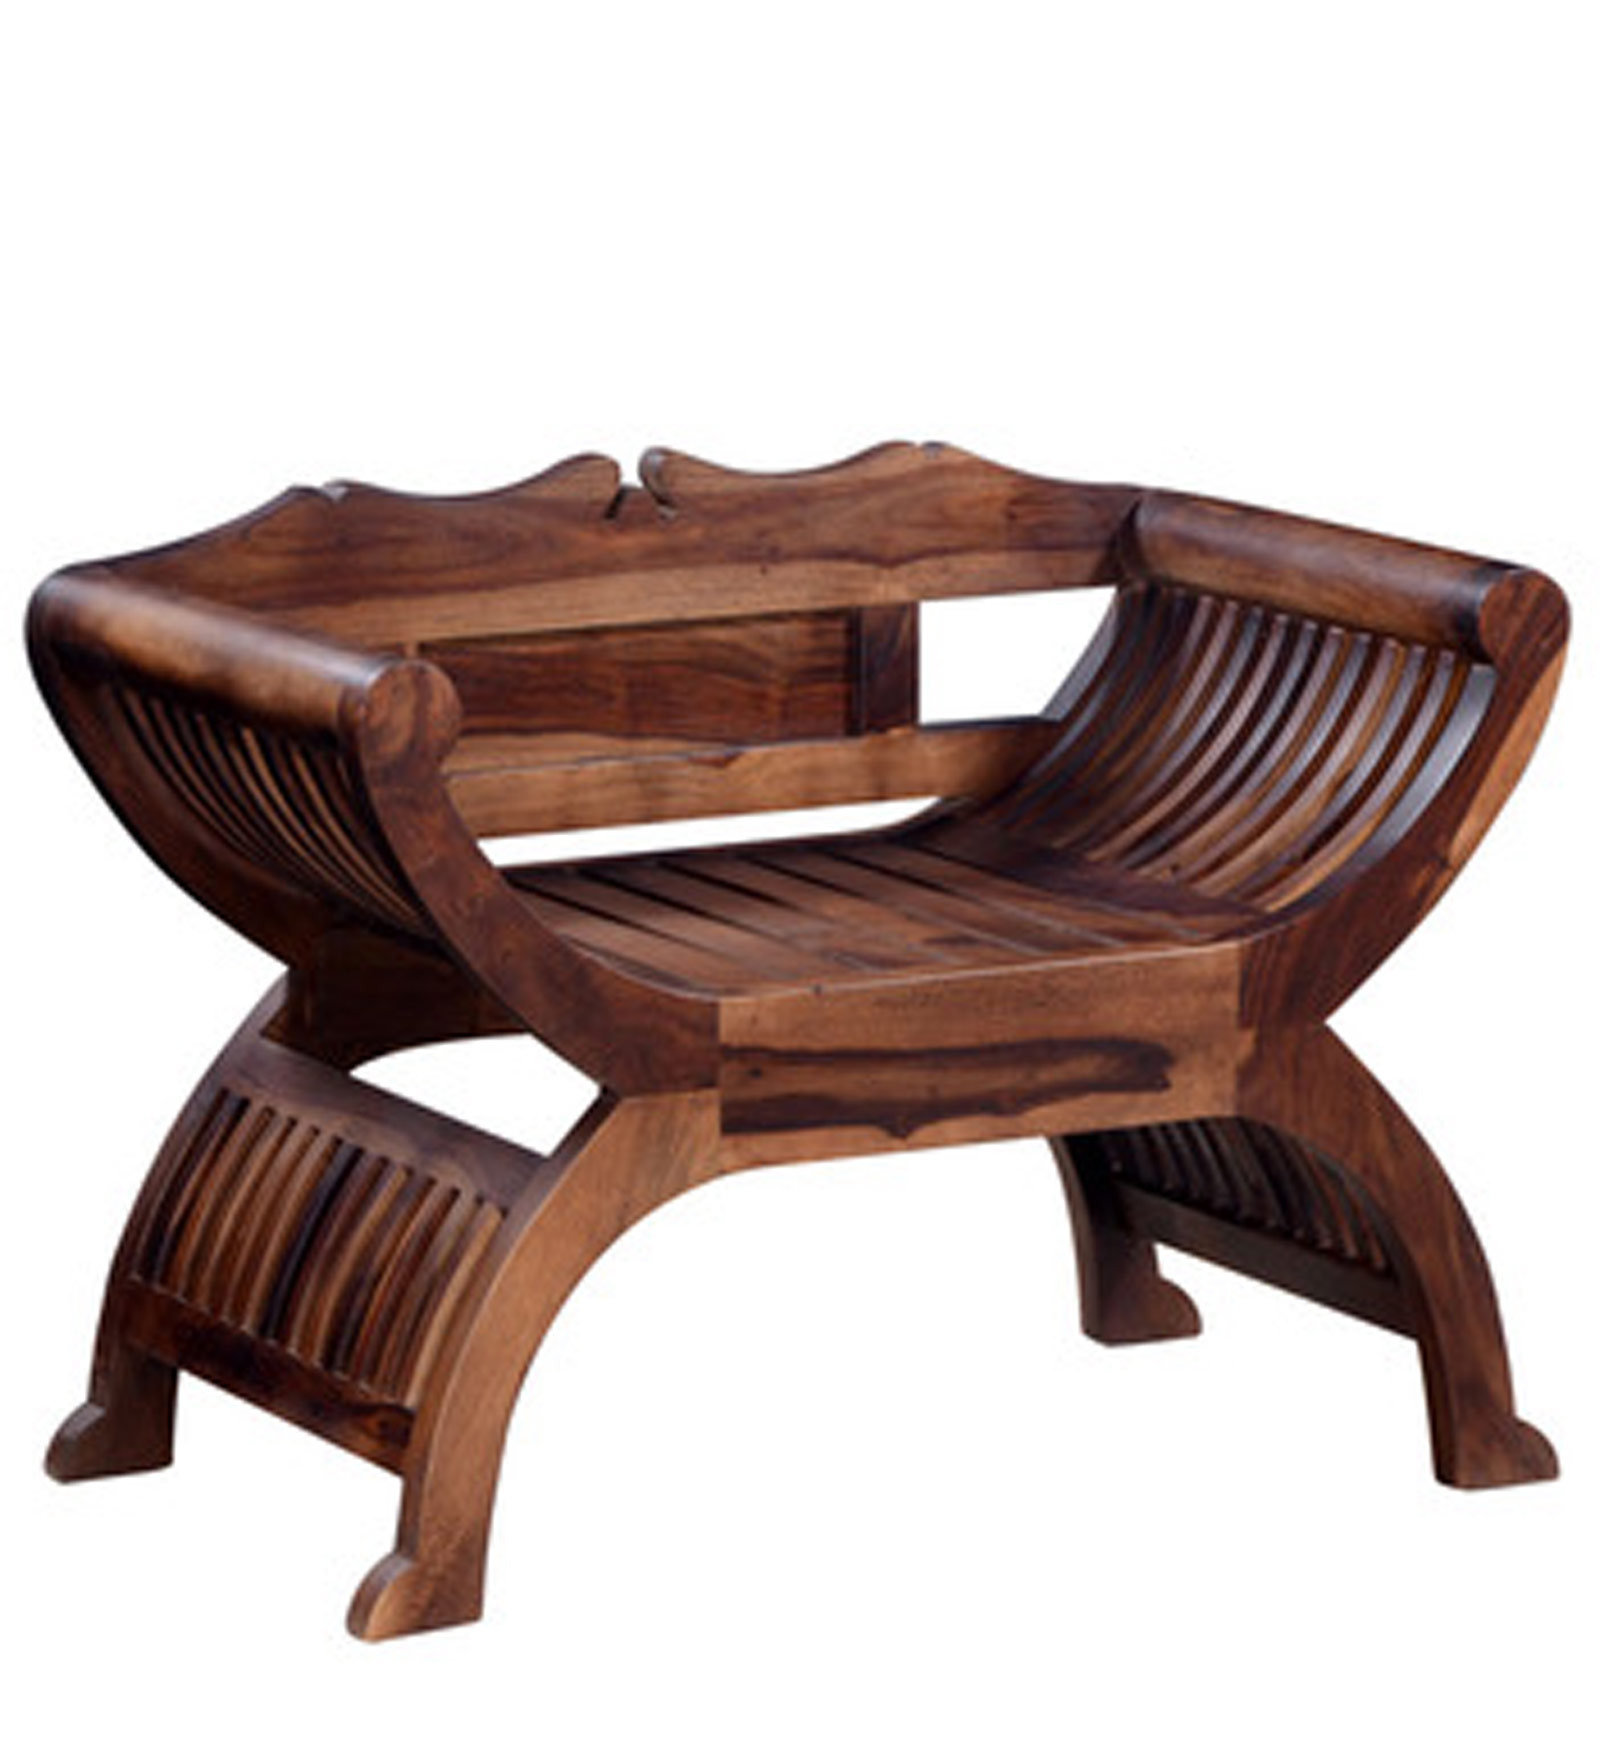William Arm Chair in Provincial Teak Finish by Amberville: (5, 396, 1580, 1633)
